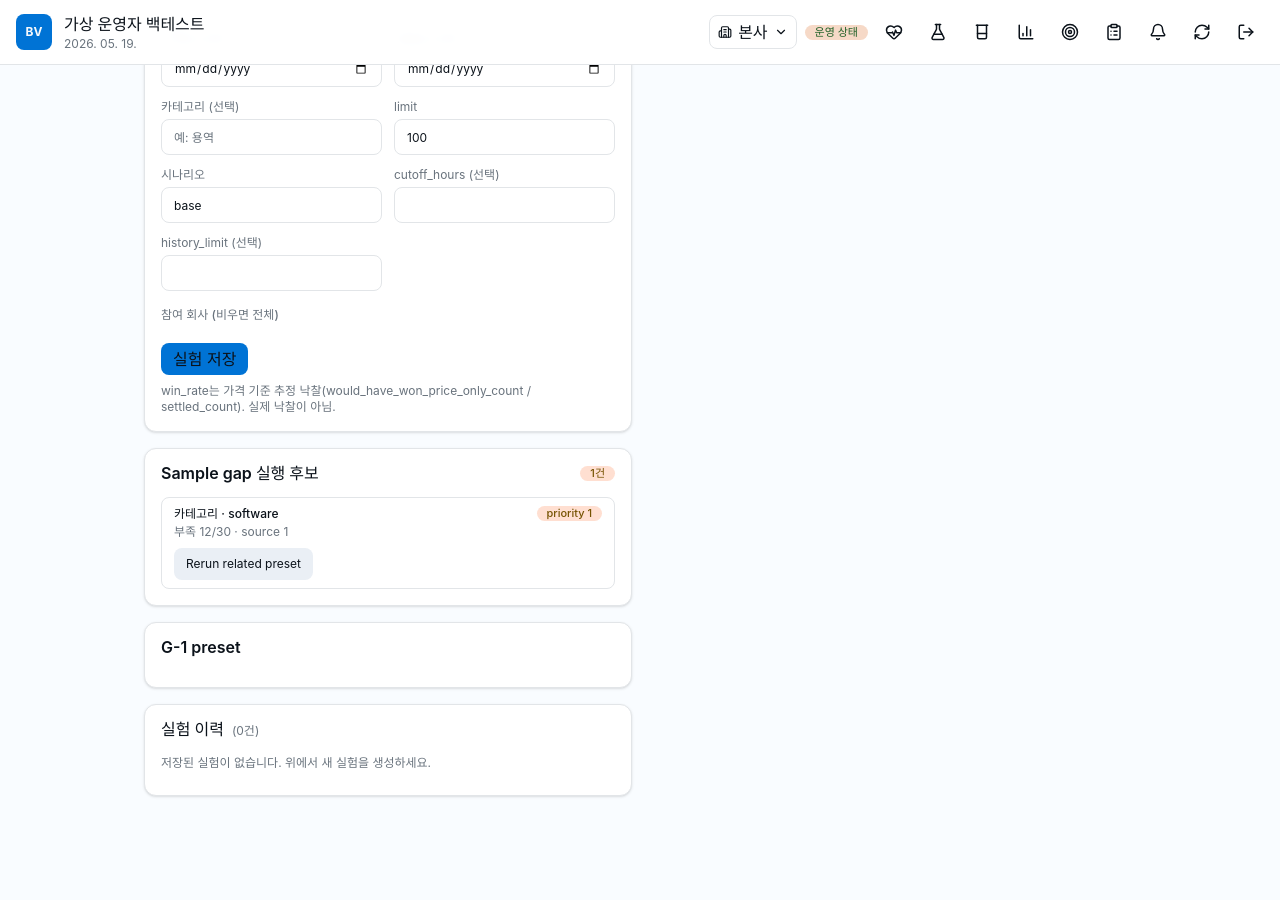
Test: ExperimentLabScreen sample-gap safety visibility › keeps mixed-data warnings destructive and prevents approval actions from being enabled
(page scrolled)
Check: the element named "sample-gap 실행 후보" is shown, box [144,448,632,606]
Click the button "Rerun related preset" at (244, 564), box [174,548,313,580]
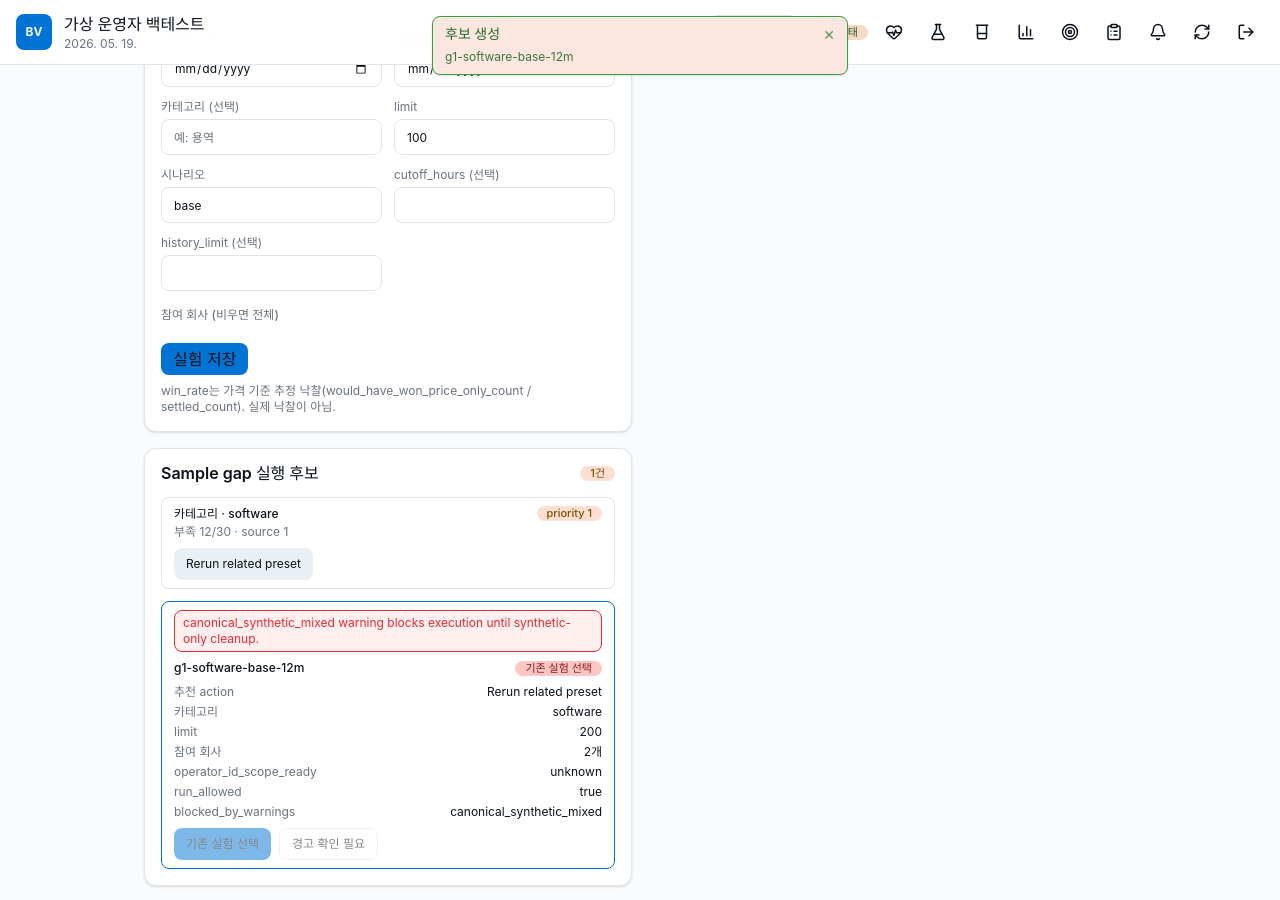
Check: the text "blocked_by_warnings" is shown, box [174,804,295,819]
Check: the text "canonical_synthetic_mixed" is shown, box [450,804,602,819]
Check: the text "canonical_synthetic_mixed warning blocks execution" is shown, box [183,615,571,646]
